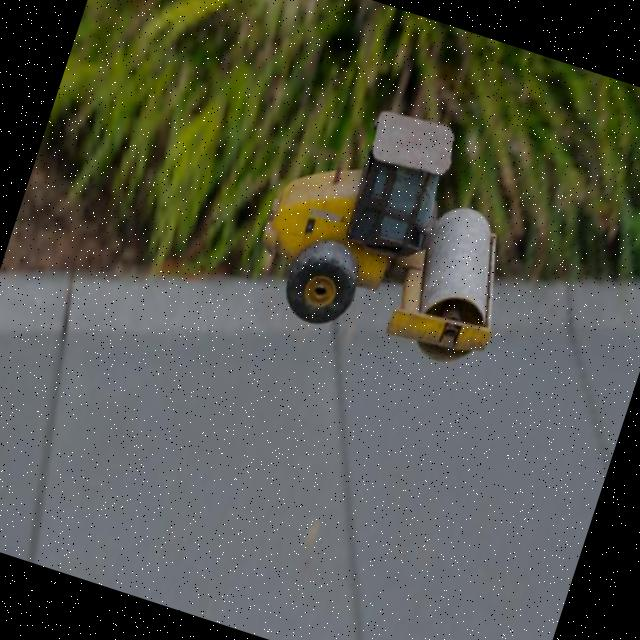Roller: (241, 80, 548, 377)
